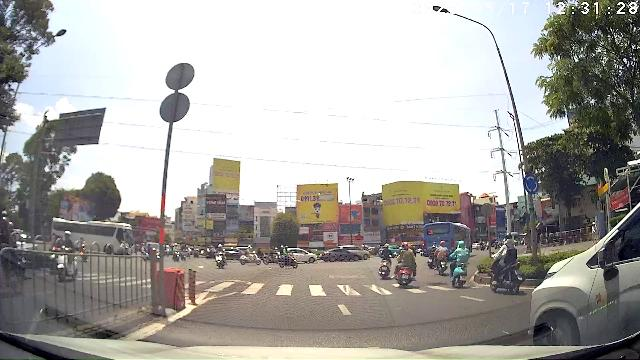303-noi-giao-nhau-chay-theo-vong-xuyen: (524, 173, 539, 194)
